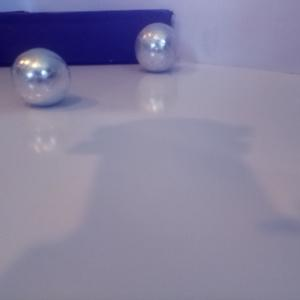zone: (1, 9, 174, 67)
